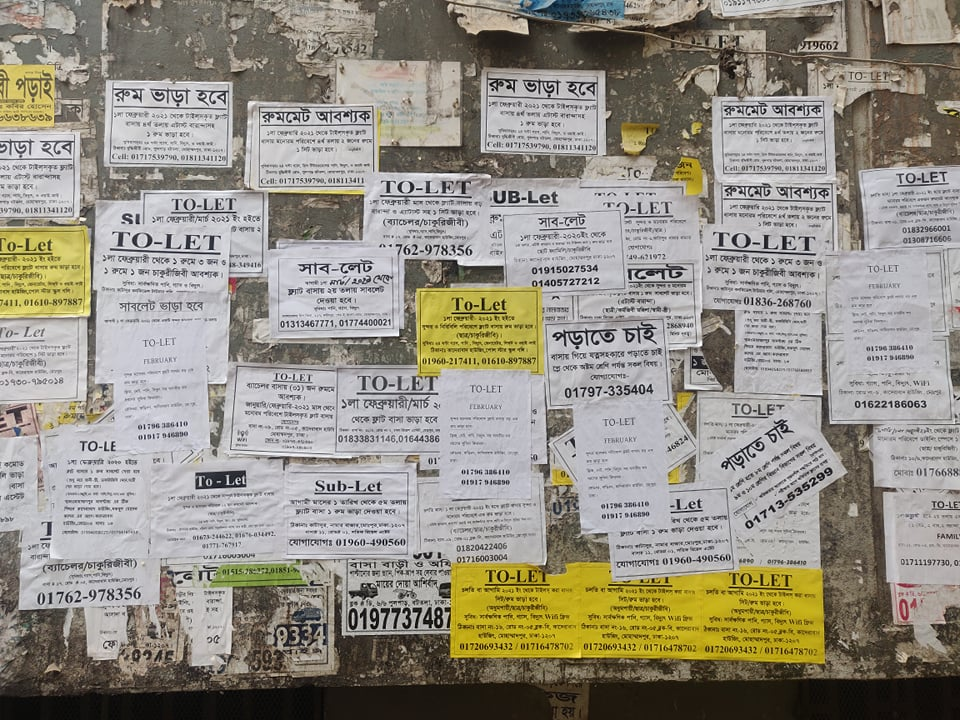ad: (691, 559, 833, 671), (453, 554, 596, 660), (358, 170, 517, 264), (571, 395, 673, 533), (416, 282, 547, 378), (53, 429, 155, 551), (100, 221, 228, 317), (702, 225, 829, 321), (107, 78, 234, 173), (272, 248, 402, 340), (160, 462, 283, 558), (291, 463, 414, 558), (253, 103, 384, 192), (333, 365, 461, 455), (113, 329, 211, 444), (480, 73, 608, 160), (502, 212, 629, 298), (226, 359, 334, 457), (827, 339, 953, 422), (834, 254, 951, 342), (716, 97, 834, 178), (861, 165, 954, 245), (7, 230, 91, 316), (720, 184, 836, 241)
